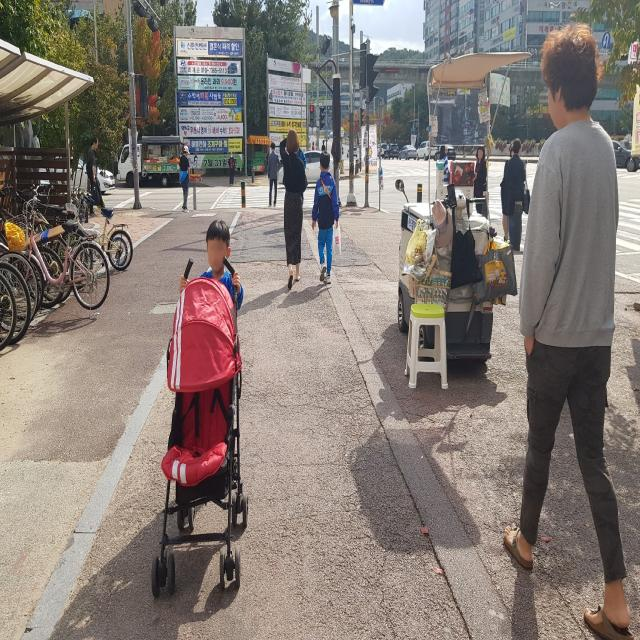빨간불: (309, 104, 314, 128)
횡단보도: (212, 177, 329, 204)
